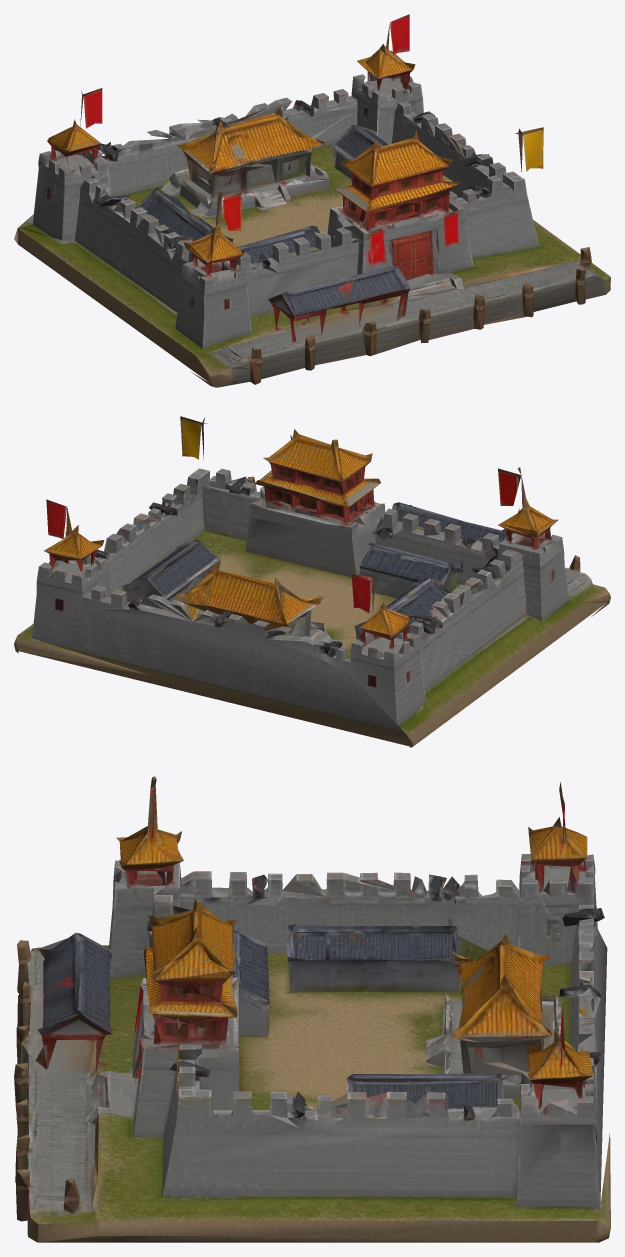
The model's file is camp_ming_3.glb.
3 renders of one model, top to bottom at view 1: azimuth 30°, elevation 25°; view 2: azimuth 150°, elevation 25°; view 3: azimuth 270°, elevation 25°, orthographic. The views are drawn at different scales.
Visible parts, largest first — view 1: camp_ming_3; view 2: camp_ming_3; view 3: camp_ming_3.
Part boxes in pixels (x1,y1,x2,y2): camp_ming_3: (14,14,610,387); camp_ming_3: (14,416,610,747); camp_ming_3: (14,776,610,1242).
Size of the model in its own units: 1 by 0.3687 by 0.8934.
Materials: 1 (1 with a texture image).
